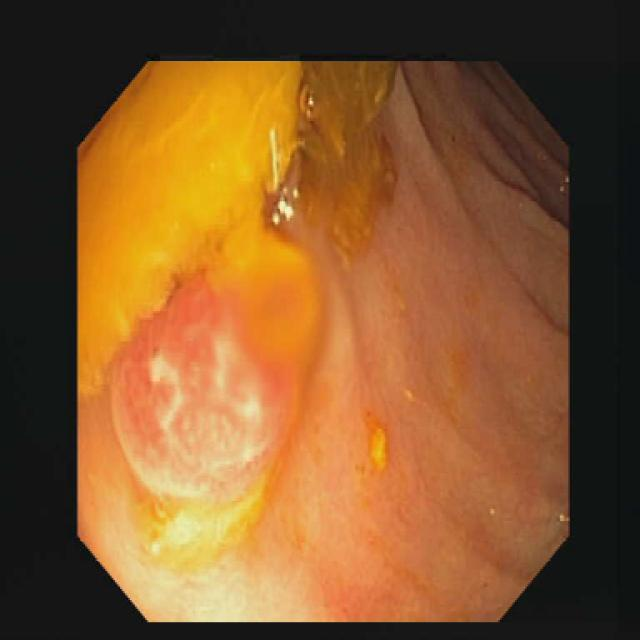tumor: (113, 284, 315, 511)
